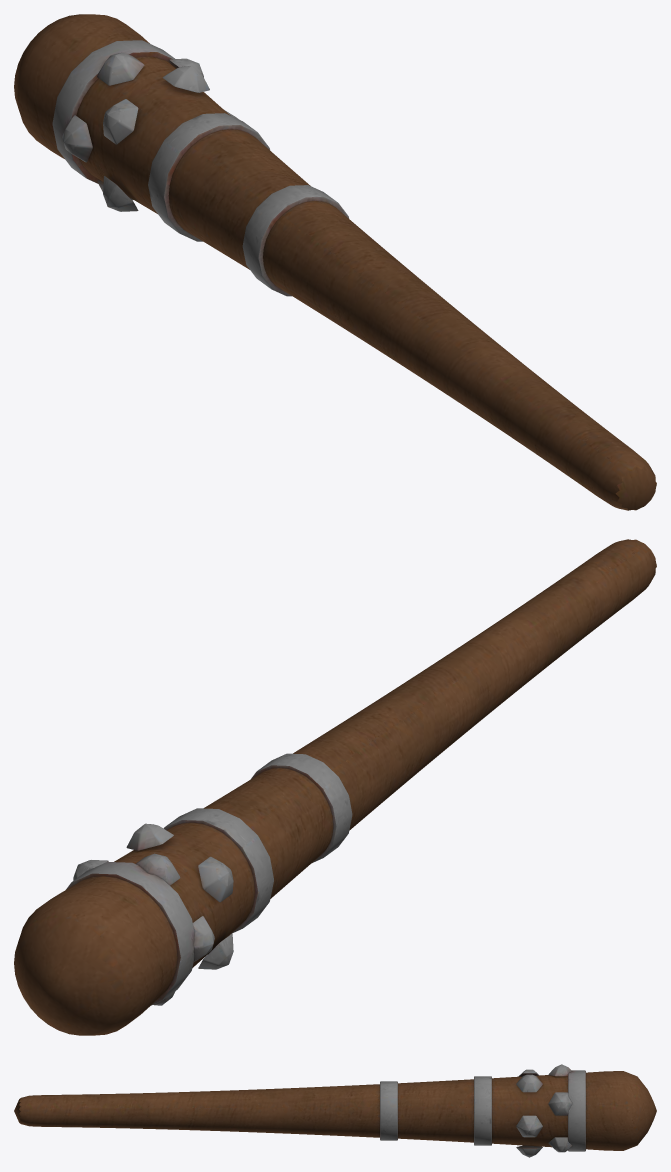
File: shod_club.glb
3 renders of one model, top to bottom at view 1: azimuth 30°, elevation 25°; view 2: azimuth 150°, elevation 25°; view 3: azimuth 270°, elevation 25°, orthographic. The views are drawn at different scales.
Visible parts, largest first — view 1: shod_club; view 2: shod_club; view 3: shod_club.
Part boxes in pixels (<box>): shod_club: <box>14,14,656,510</box>; shod_club: <box>14,539,656,1035</box>; shod_club: <box>14,1064,656,1157</box>.
Bounding box in the file's own units: 0.105 × 0.0999 × 0.7181.
Materials: 1 (1 with a texture image).
